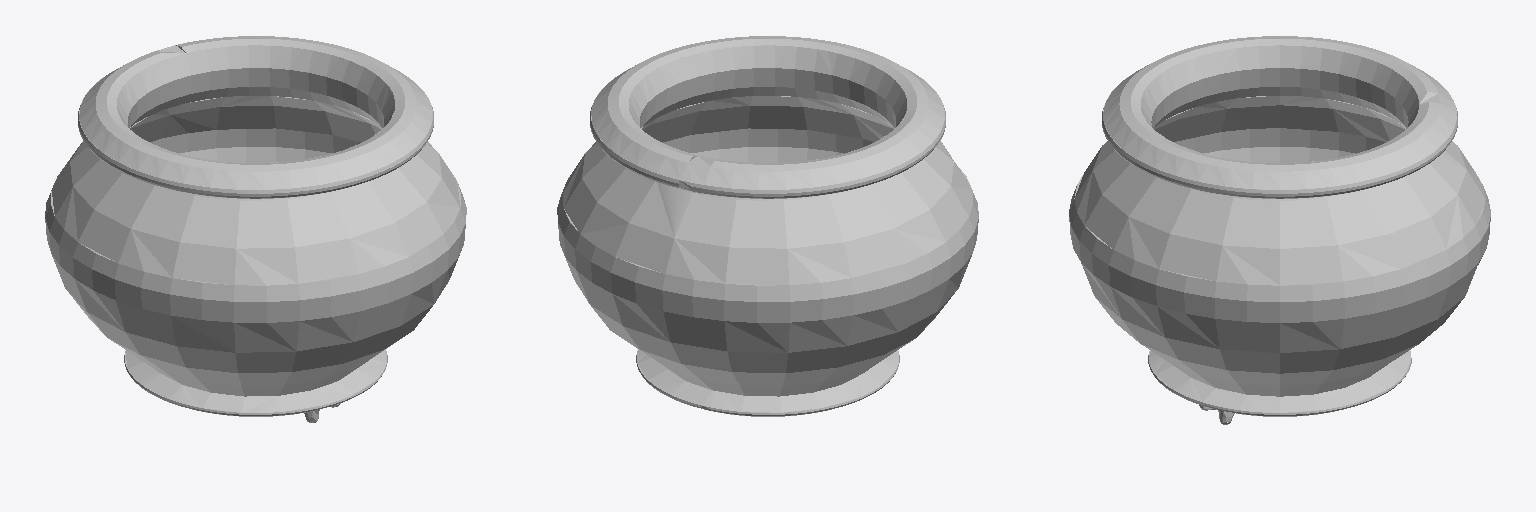
Rendered from thirdTriesthecharm.obj.
3 renders of one model, left to right at view 1: azimuth 30°, elevation 25°; view 2: azimuth 150°, elevation 25°; view 3: azimuth 270°, elevation 25°, orthographic.
Parts seen in each view (by area): view 1: revolvedSurface1; view 2: revolvedSurface1; view 3: revolvedSurface1.
Boxes of the visible parts, <box> form: revolvedSurface1: <box>45,36,466,416</box>; revolvedSurface1: <box>557,36,978,416</box>; revolvedSurface1: <box>1069,36,1490,416</box>.
Bounding box in the file's own units: 17.72 × 14.28 × 17.73.